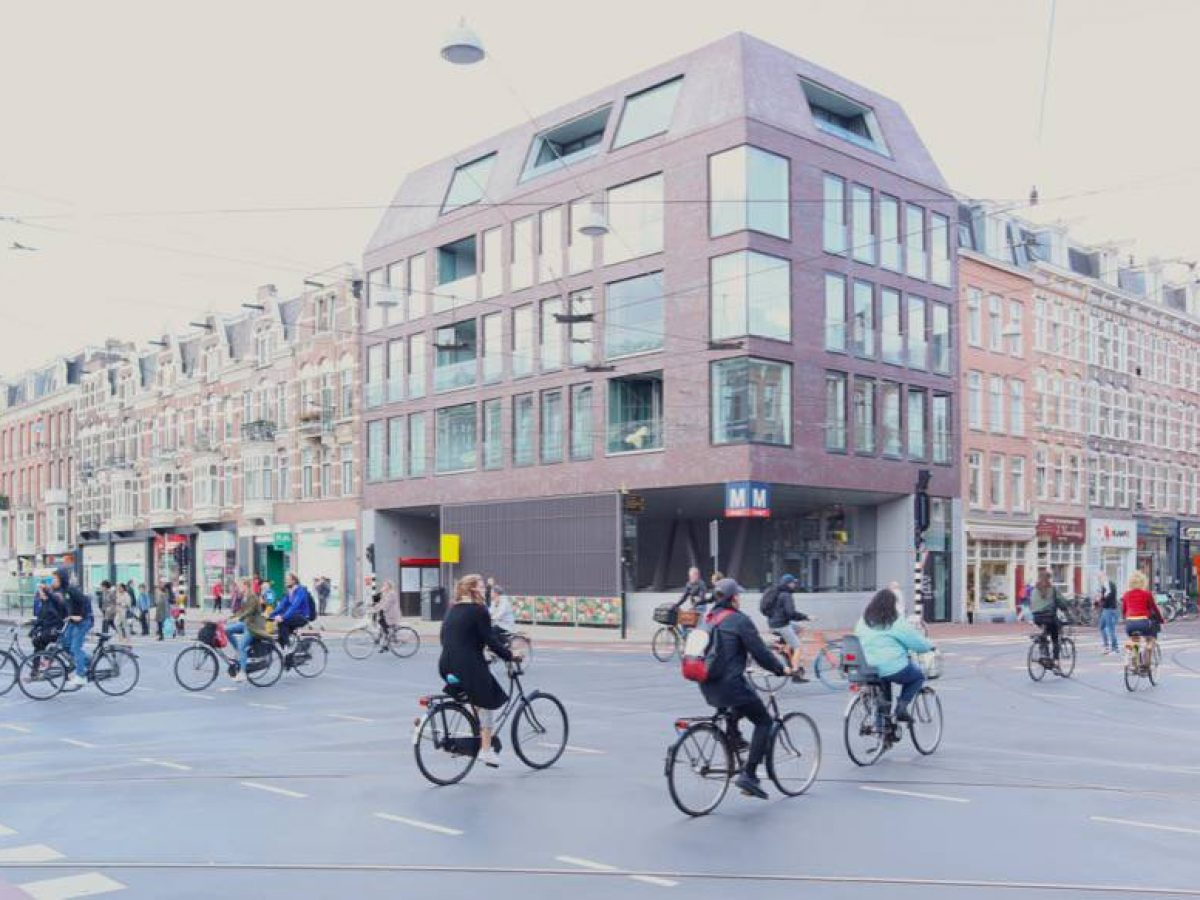commuter: (663, 578, 826, 824), (412, 573, 576, 789), (839, 586, 946, 772), (9, 567, 142, 702), (170, 574, 285, 694), (1022, 568, 1081, 688), (1122, 572, 1172, 690), (278, 573, 334, 678)
